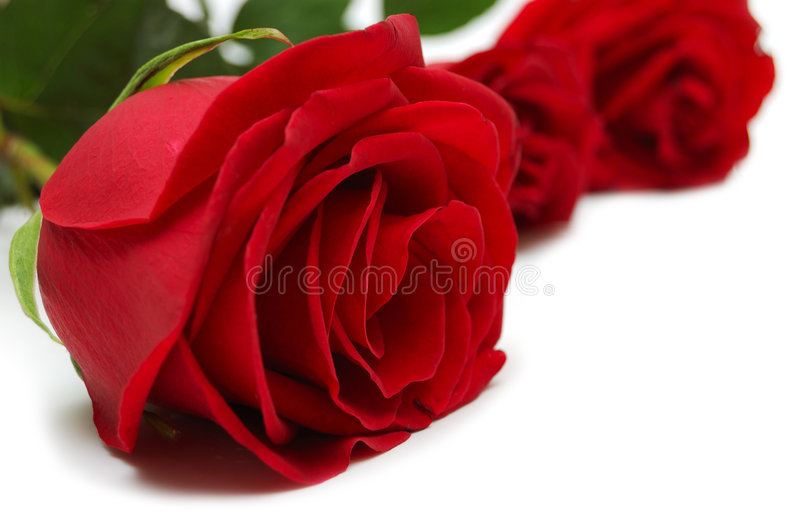RedRose: (53, 54, 514, 438), (466, 0, 755, 185)
